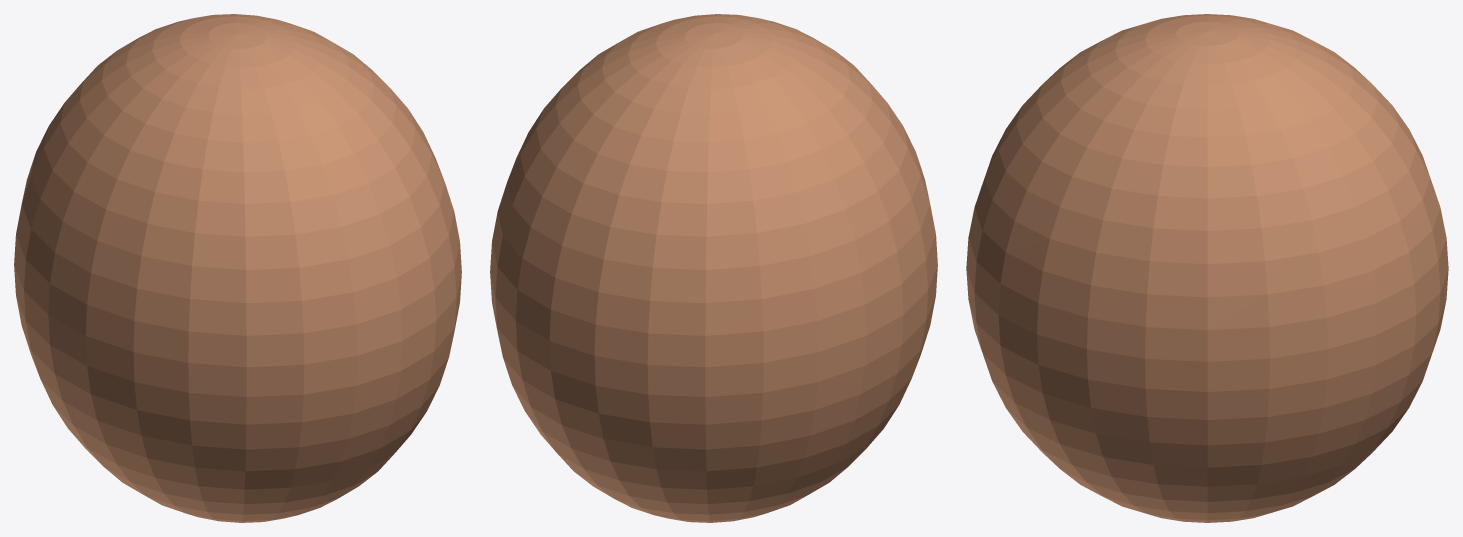
The model's file is mohan_sir_master.obj.
3 renders of one model, left to right at view 1: azimuth 30°, elevation 25°; view 2: azimuth 150°, elevation 25°; view 3: azimuth 270°, elevation 25°, orthographic.
Parts seen in each view (by area): view 1: Mohan_Sir_Master_Body; view 2: Mohan_Sir_Master_Body; view 3: Mohan_Sir_Master_Body.
Part boxes in pixels (<box>): Mohan_Sir_Master_Body: <box>14,14,461,522</box>; Mohan_Sir_Master_Body: <box>490,14,937,522</box>; Mohan_Sir_Master_Body: <box>966,14,1448,522</box>.
Size of the model in its own units: 0.22 by 0.26 by 0.24.
